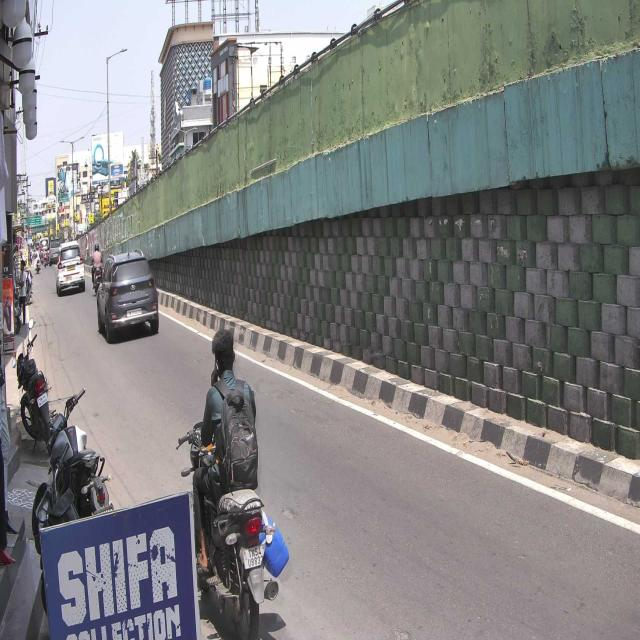single_rider: (176, 325, 282, 640)
